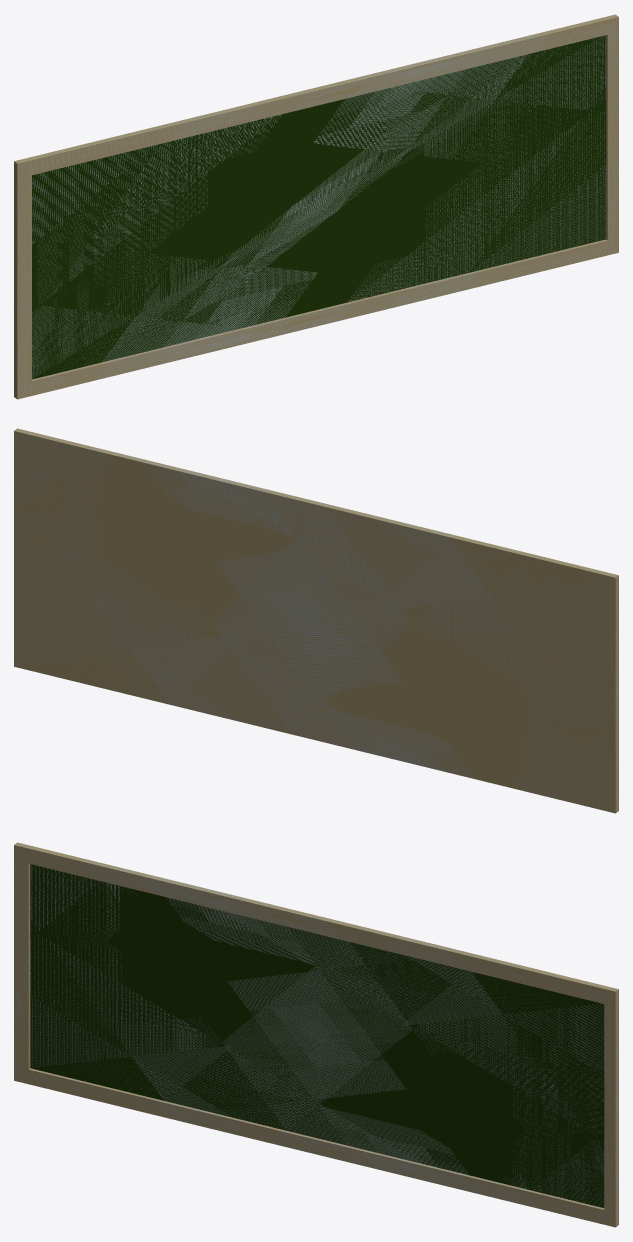
The model's file is chalkboard.dae.
The picture shows the model from 3 angles, top to bottom: view 1: azimuth 30°, elevation 25°; view 2: azimuth 150°, elevation 25°; view 3: azimuth 330°, elevation 25°; orthographic projection.
Visible parts, largest first — view 1: chalkboard (×3); view 2: chalkboard; view 3: chalkboard (×3).
Boxes of the visible parts, bbox=[...] form: chalkboard (×3): bbox=[14, 14, 618, 399]; chalkboard: bbox=[14, 428, 618, 813]; chalkboard (×3): bbox=[14, 842, 618, 1227].
Bounding box in the file's own units: 145 × 1.44 × 54.44.
